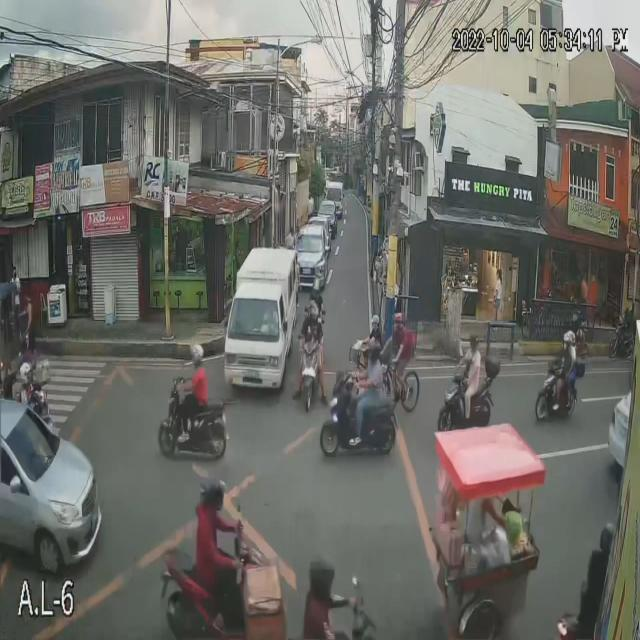Full-Faced: (197, 472, 229, 511), (308, 554, 335, 596), (185, 339, 205, 369), (365, 337, 382, 363), (466, 329, 484, 353), (16, 360, 32, 382), (561, 331, 577, 352), (307, 299, 320, 322)
